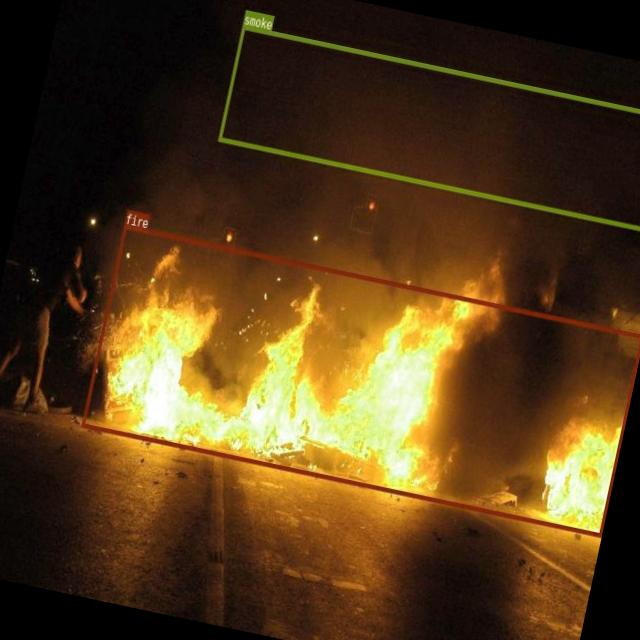fire: (81, 223, 640, 536)
smoke: (218, 23, 640, 229)
